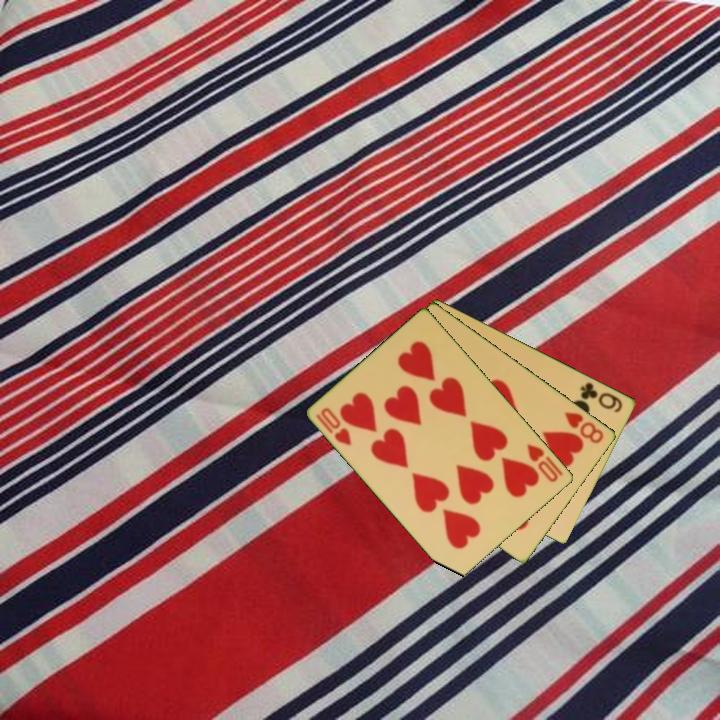10h: (524, 440, 566, 485), (313, 404, 355, 449)
6c: (577, 378, 626, 416)
8h: (561, 408, 607, 446)
